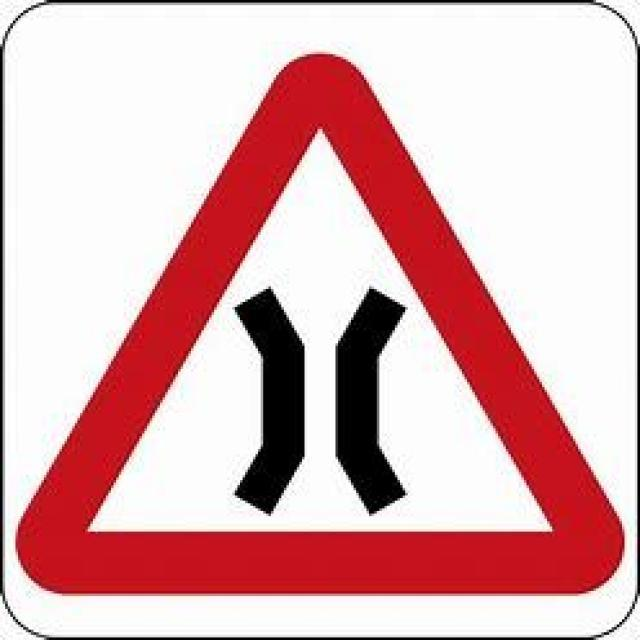narrow bridge ahead: (20, 49, 625, 601)
